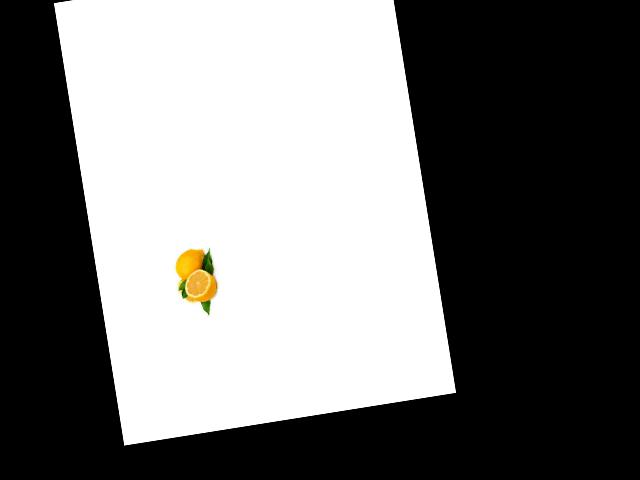lemon: (182, 266, 221, 306)
